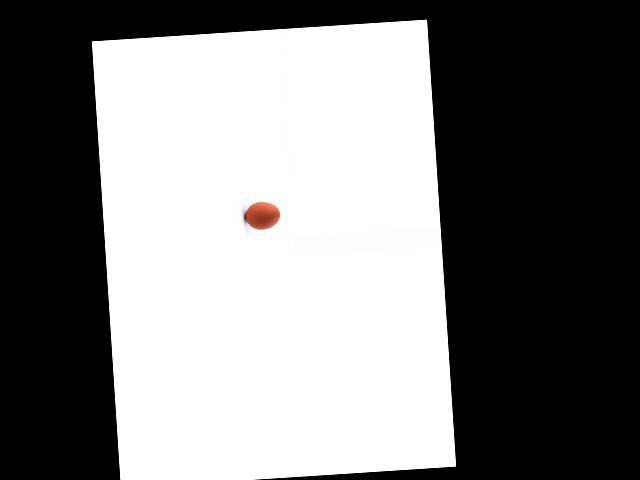egg: (244, 201, 280, 231)
